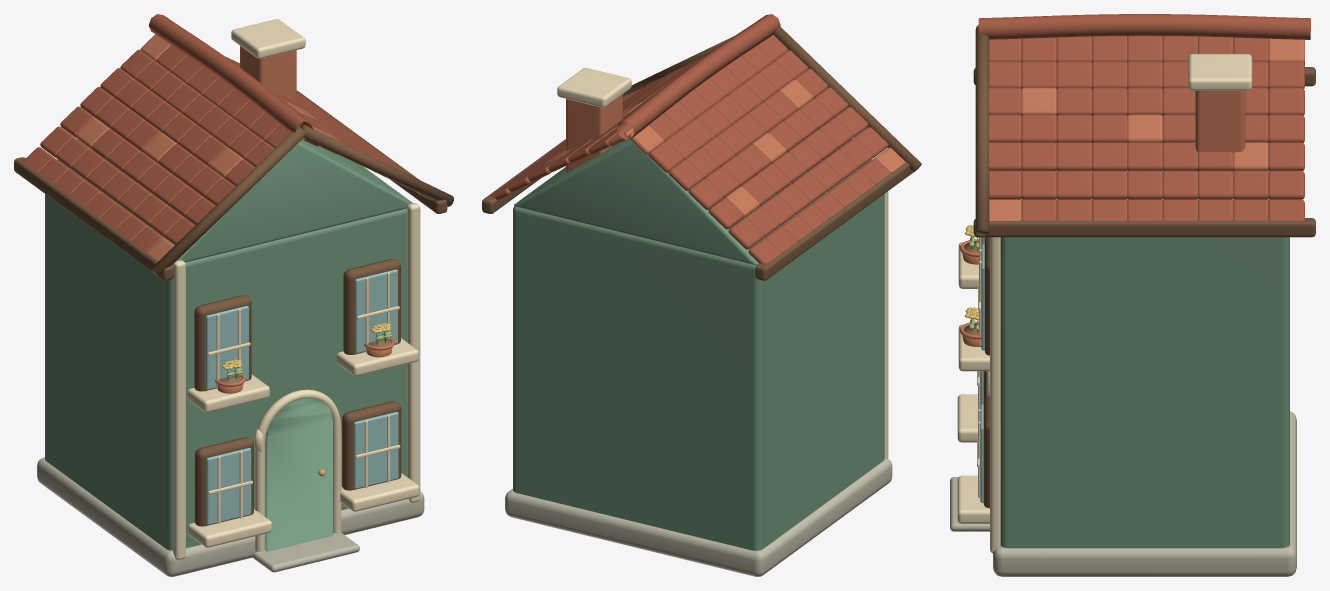
Rendered from cottage-sage.glb.
3 renders of one model, left to right at view 1: azimuth 30°, elevation 25°; view 2: azimuth 150°, elevation 25°; view 3: azimuth 270°, elevation 25°, orthographic. The views are drawn at different scales.
Parts seen in each view (by area): view 1: cottage-sage_World_Mesh, Planter.006_Mesh, Planter.007_Mesh; view 2: cottage-sage_World_Mesh; view 3: cottage-sage_World_Mesh, Planter.007_Mesh, Planter.006_Mesh.
Boxes of the visible parts, x1,y1,x2,y2 form: cottage-sage_World_Mesh: (14, 14, 453, 576); Planter.006_Mesh: (215, 359, 245, 393); Planter.007_Mesh: (364, 323, 394, 357); cottage-sage_World_Mesh: (482, 14, 921, 576); cottage-sage_World_Mesh: (950, 14, 1315, 576); Planter.007_Mesh: (959, 307, 981, 346); Planter.006_Mesh: (959, 225, 979, 264).
Bounding box in the file's own units: 3.39 × 4.7 × 3.16.
